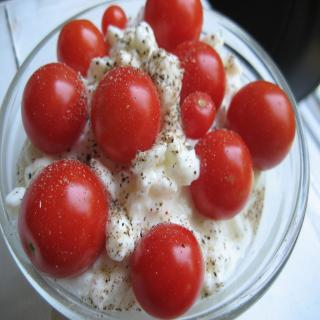tomato: (18, 158, 108, 275), (131, 221, 206, 320), (17, 56, 93, 148), (91, 66, 162, 162), (226, 78, 296, 170), (189, 128, 254, 220), (172, 41, 226, 111), (144, 1, 204, 52), (56, 19, 106, 77), (181, 93, 215, 139), (101, 4, 128, 38)
